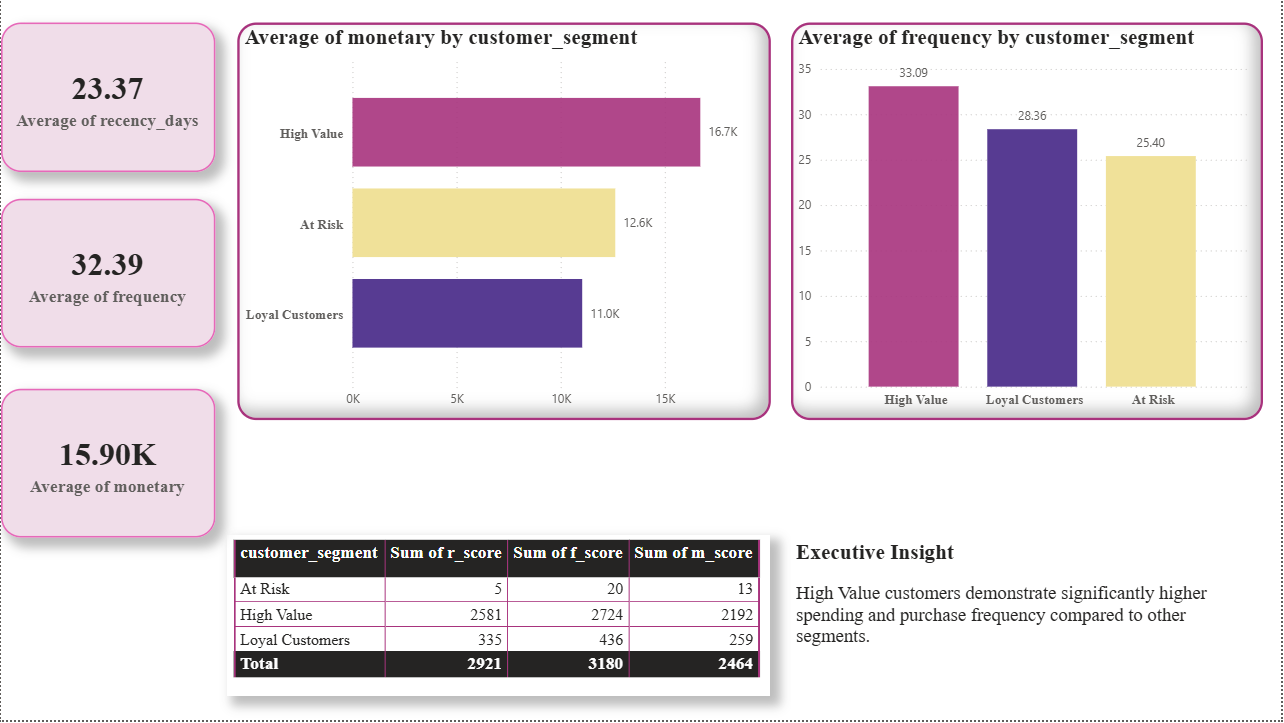

This screenshot's page, from the dashboard's own definition file:
{"tool":"powerbi","page":{"name":"Page 2","canvas":[1280,720],"ordinal":1},"visuals":[{"type":"barChart","fields":{"Y":["Avg(public customer_rfm.monetary)"],"Category":["public customer_rfm.customer_segment"]},"box":[236,22,533.8,397.9],"z":0},{"type":"columnChart","fields":{"Y":["Avg(public customer_rfm.frequency)"],"Category":["public customer_rfm.customer_segment"]},"box":[790.4,22,472,397.9],"z":1},{"type":"tableEx","fields":{"Values":["public customer_rfm.customer_segment","Sum(public customer_rfm.r_score)","Sum(public customer_rfm.f_score)","Sum(public customer_rfm.m_score)"]},"box":[226.4,535.2,543.4,160.5],"z":2},{"type":"textbox","box":[790.4,535.2,451.5,185.2],"z":3},{"type":"card","fields":{"Values":["Avg(public customer_rfm.recency_days)"]},"box":[0,22,214.1,149.6],"z":4},{"type":"card","fields":{"Values":["Avg(public customer_rfm.frequency)"]},"box":[0,199,214.1,149],"z":5},{"type":"card","fields":{"Values":["Avg(public customer_rfm.monetary)"]},"box":[0,388.3,214.1,149],"z":6}]}

Visuals, with their boxes in screenshot pixels (x1, y1, x2, y2), scaled from the page's 1280x720 canvas onto the 1284x723 screenshot:
barChart - Avg(public customer_rfm.monetary) x public customer_rfm.customer_segment: 237, 22, 772, 422
columnChart - Avg(public customer_rfm.frequency) x public customer_rfm.customer_segment: 793, 22, 1266, 422
tableEx - public customer_rfm.customer_segment x Sum(public customer_rfm.r_score): 227, 537, 772, 699
textbox: 793, 537, 1246, 722
card - Avg(public customer_rfm.recency_days): 0, 22, 215, 172
card - Avg(public customer_rfm.frequency): 0, 200, 215, 349
card - Avg(public customer_rfm.monetary): 0, 390, 215, 540
